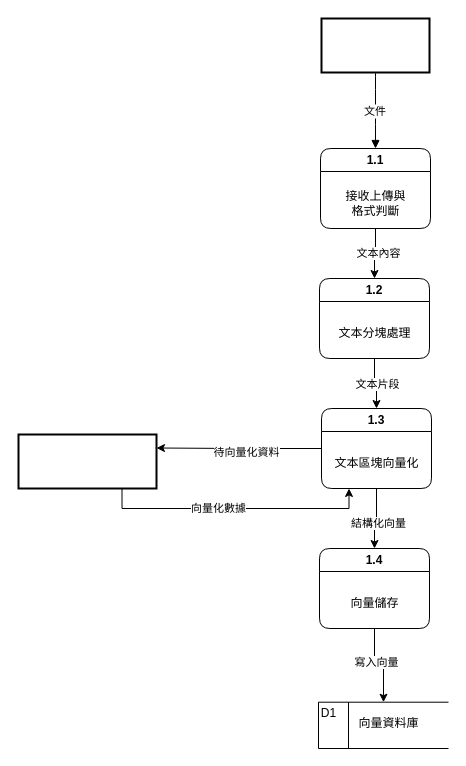
The diagram is 466 pixels wide and 766 high, and some of its shapes have lost their labels. The centre of each missing label's shape, as x and y in pixels:
OpenAI Embedding API: (87,461)
使用者: (375,45)
